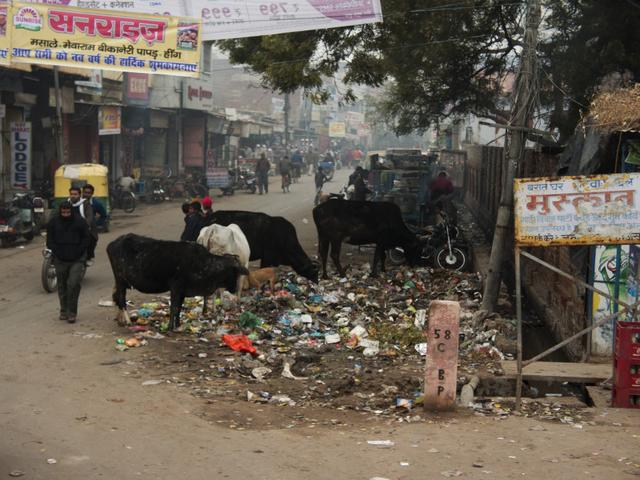garbage: (248, 289, 396, 365)
